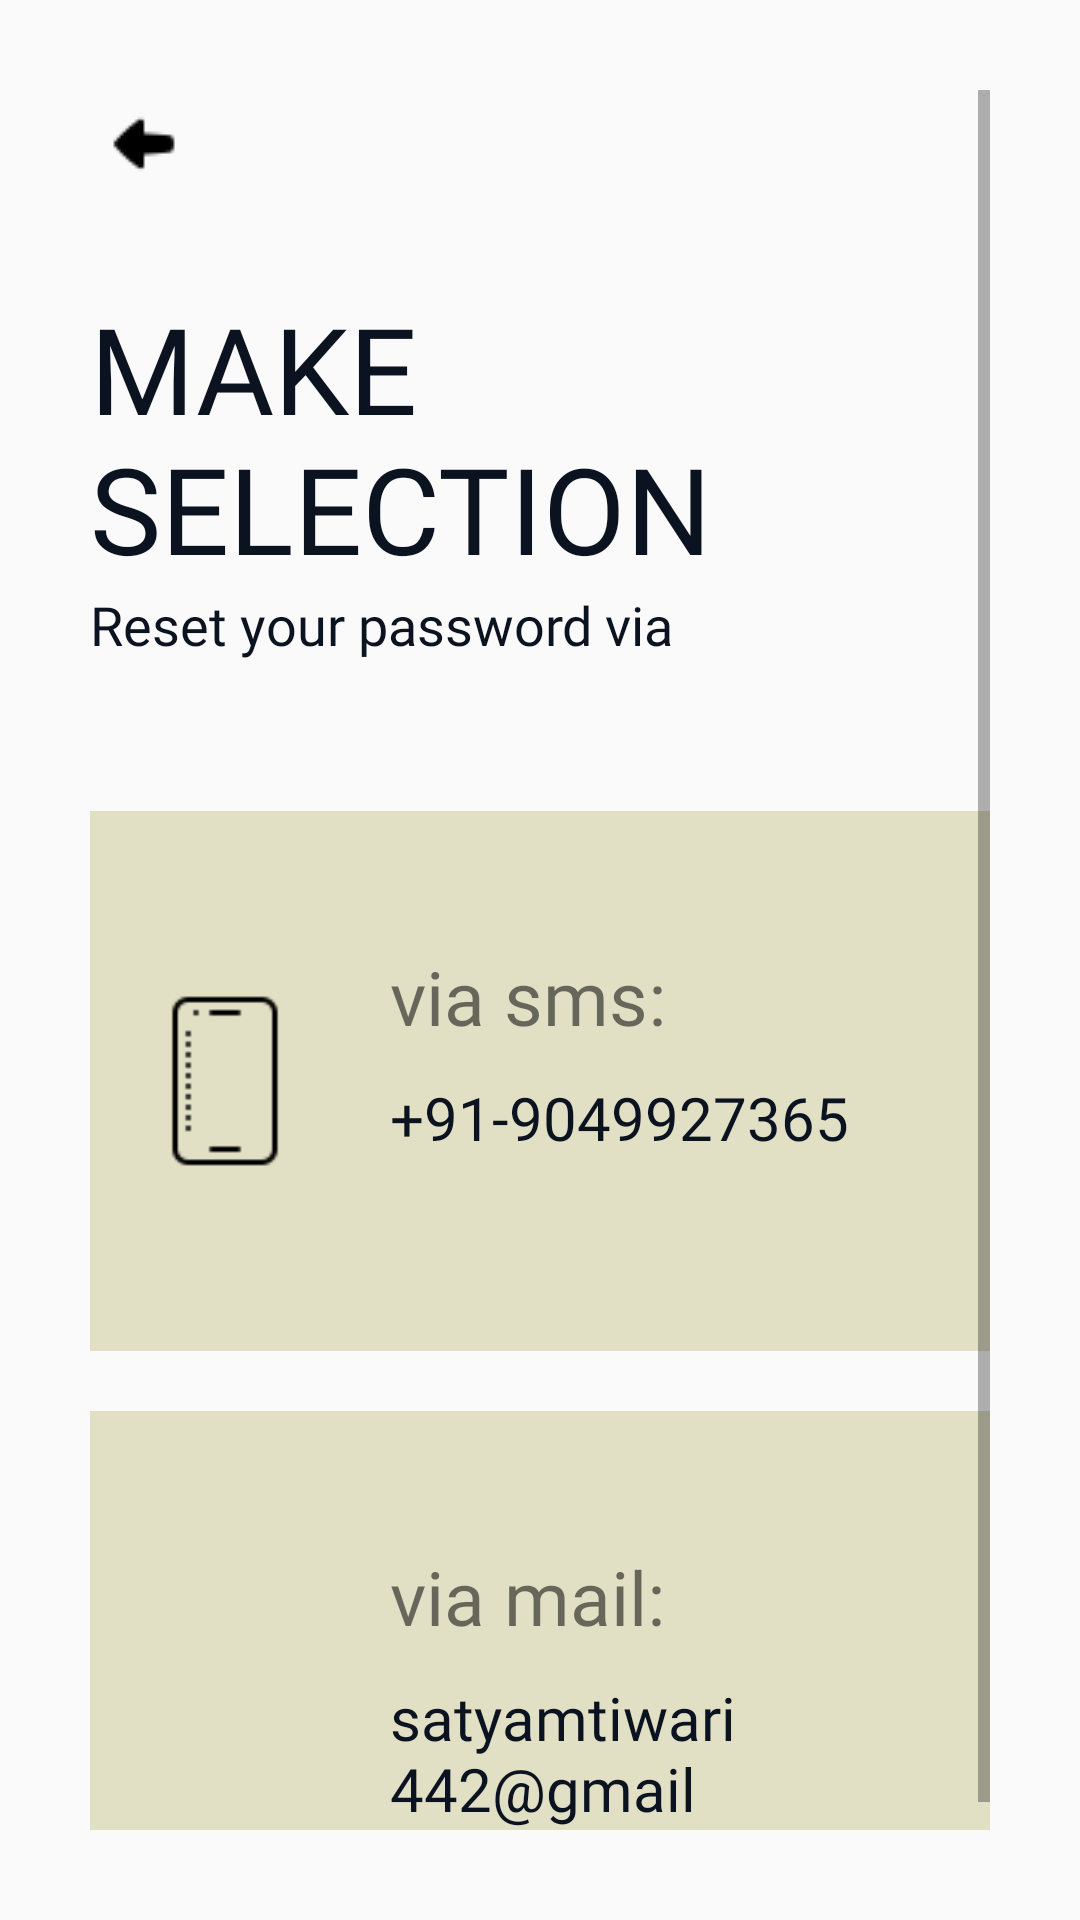

Where to tap for icons on this 1080 x 1920 app screen, as point (x, y):
back: point (144, 143)
mobile: point (225, 1081)
